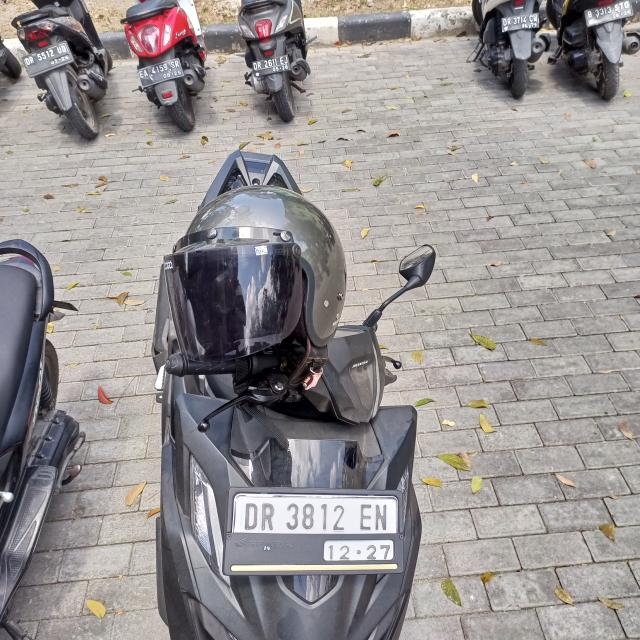plate: (232, 490, 404, 565), (22, 40, 75, 80), (138, 56, 184, 88), (584, 0, 634, 28), (253, 54, 290, 79), (501, 11, 540, 34)
